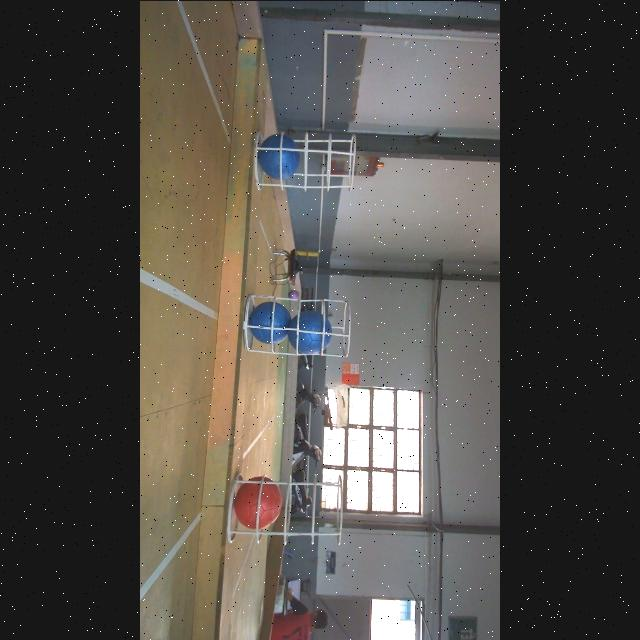B: (288, 310, 332, 352), (249, 301, 291, 343), (258, 134, 298, 178)
R: (234, 474, 282, 528)
